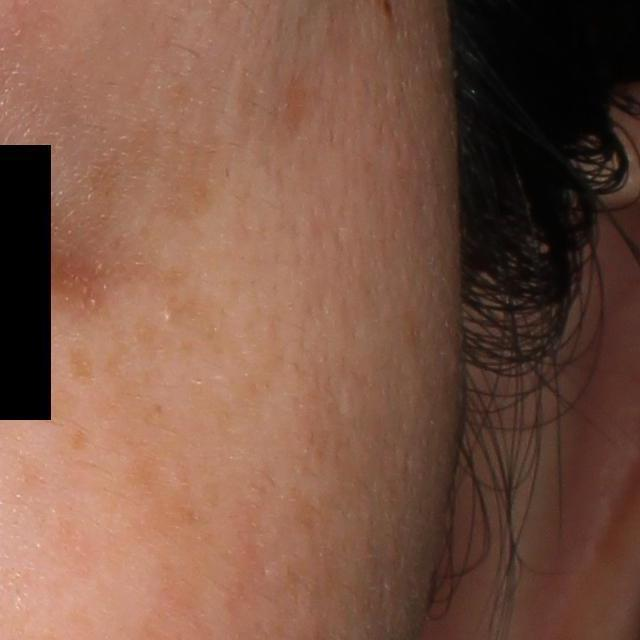melasma: (89, 74, 222, 227), (126, 439, 211, 531), (57, 512, 123, 576), (64, 342, 93, 386), (69, 429, 92, 455)
